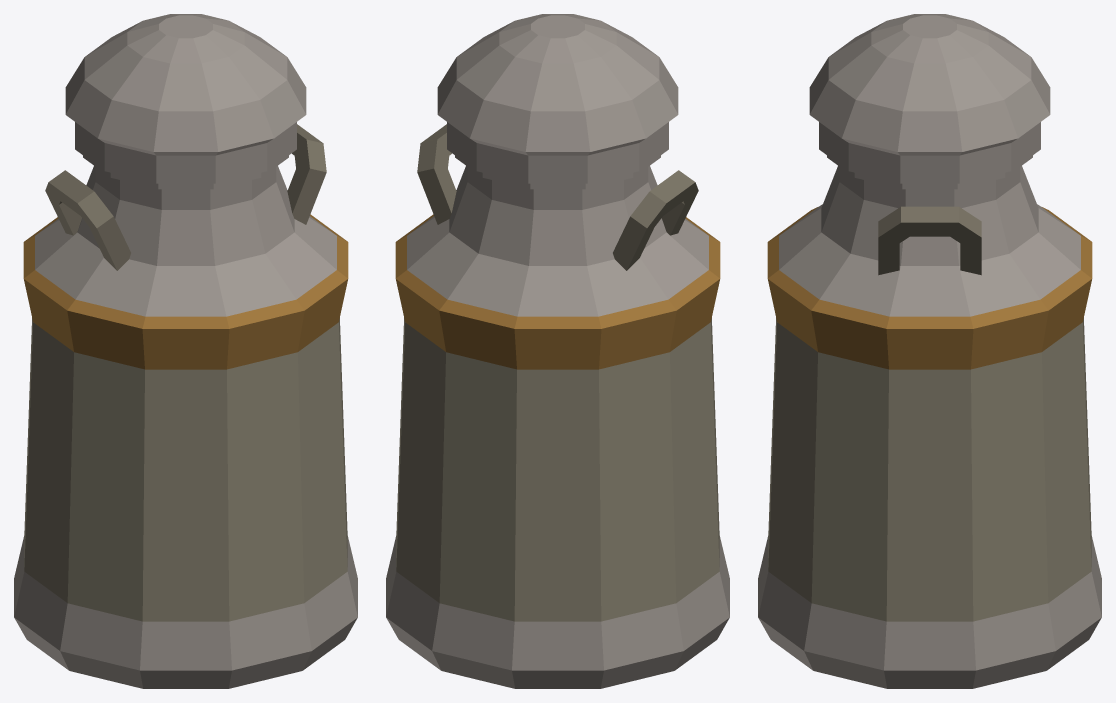
The model's file is milk-churn-895735.glb.
3 views of the same model, side by side, from view 1: azimuth 30°, elevation 25°; view 2: azimuth 150°, elevation 25°; view 3: azimuth 270°, elevation 25° (orthographic).
Parts seen in each view (by area): view 1: milk-churn, lid; view 2: milk-churn, lid; view 3: milk-churn, lid.
Part boxes in pixels (box(x1,y1,x2,y2)): milk-churn: box(14, 124, 357, 688); lid: box(65, 14, 306, 183); milk-churn: box(386, 124, 729, 688); lid: box(437, 14, 678, 183); milk-churn: box(758, 155, 1101, 688); lid: box(809, 14, 1050, 183).
Bounding box in the file's own units: 0.4192 × 0.8 × 0.4192.
